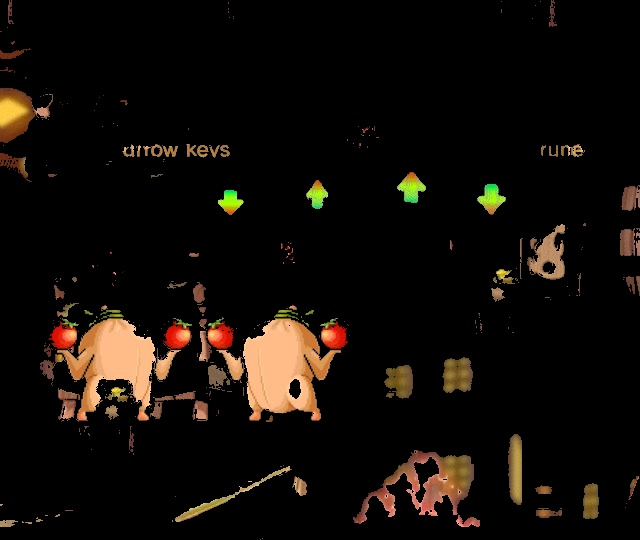down: (473, 180, 511, 219), (213, 185, 248, 221)
up: (393, 168, 431, 209), (301, 175, 334, 214)
